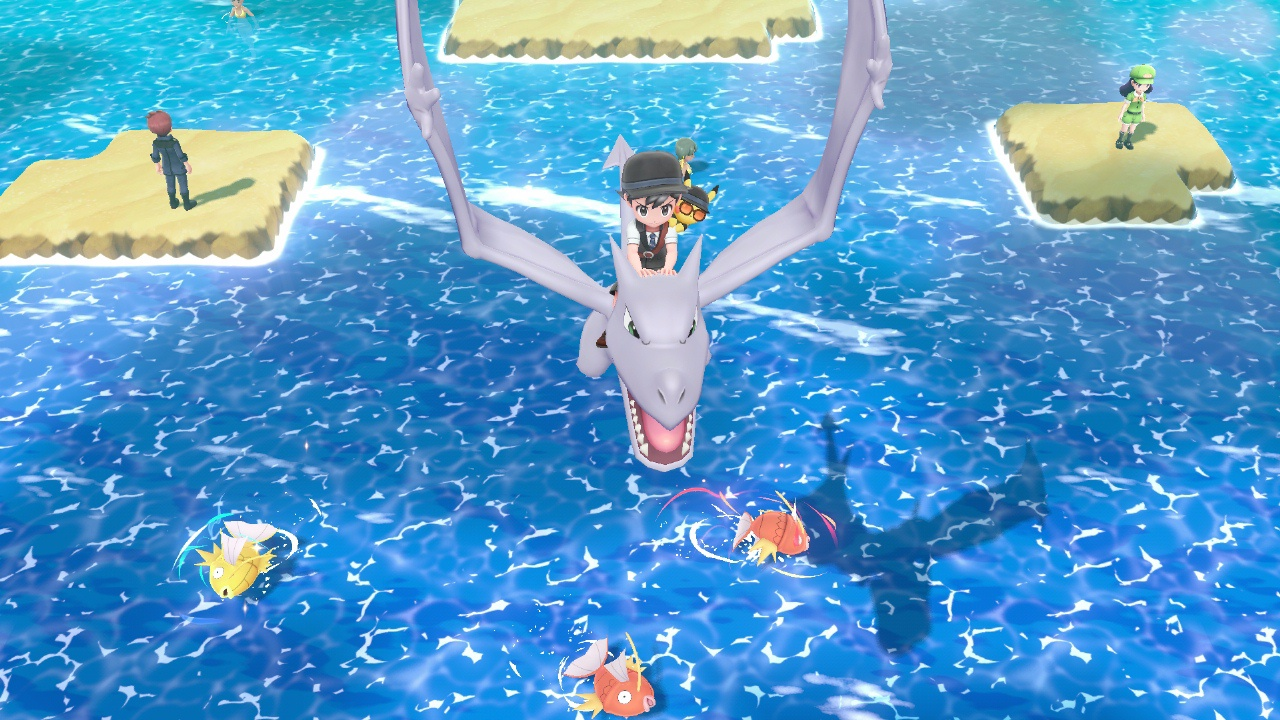Golden: (195, 521, 278, 599)
